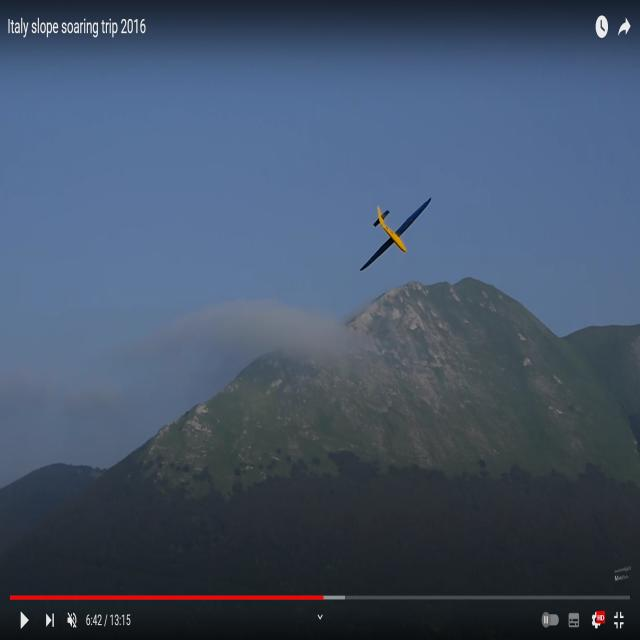iha: (394, 228, 399, 242)
